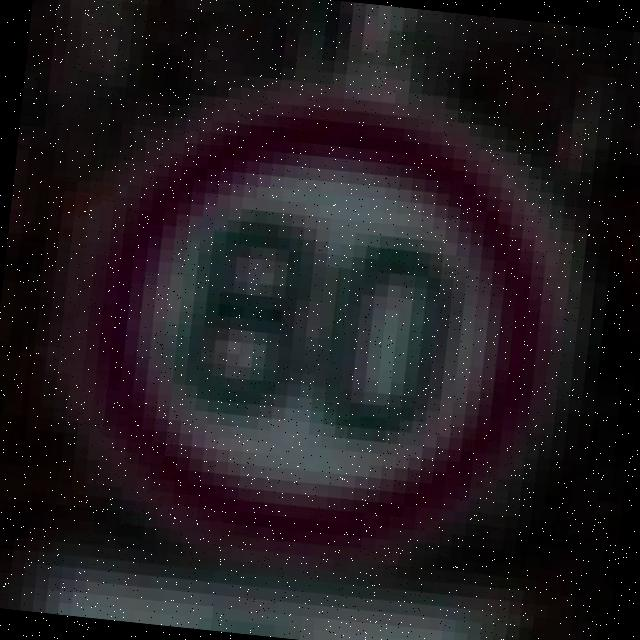Ograniczenie predkosci do 80: (61, 86, 558, 584)
